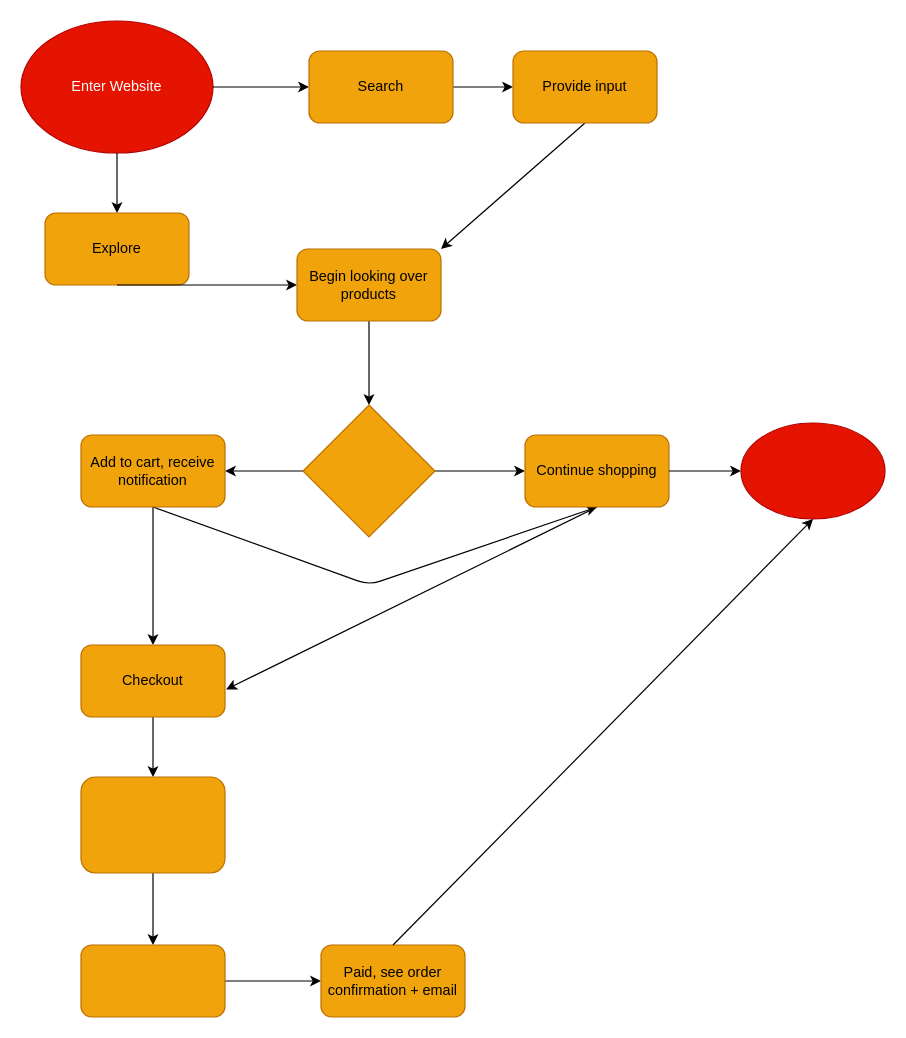
Some shapes in this 906 by 1038 pixel diagram are drawn without their labels. Each missing label, with the centre of its shape:
"Leave website" belongs at point (812, 470).
"View cart screen" belongs at point (152, 824).
"View payment screen" belongs at point (152, 980).
"Viewing a specific product" belongs at point (368, 470).
